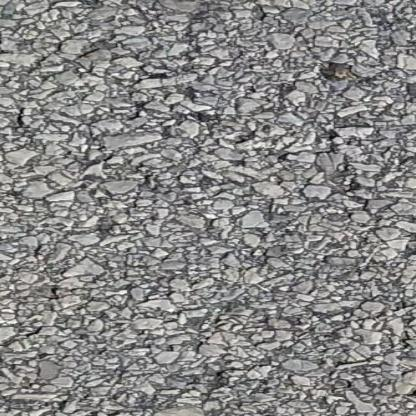Cracks: (258, 96, 385, 234)
